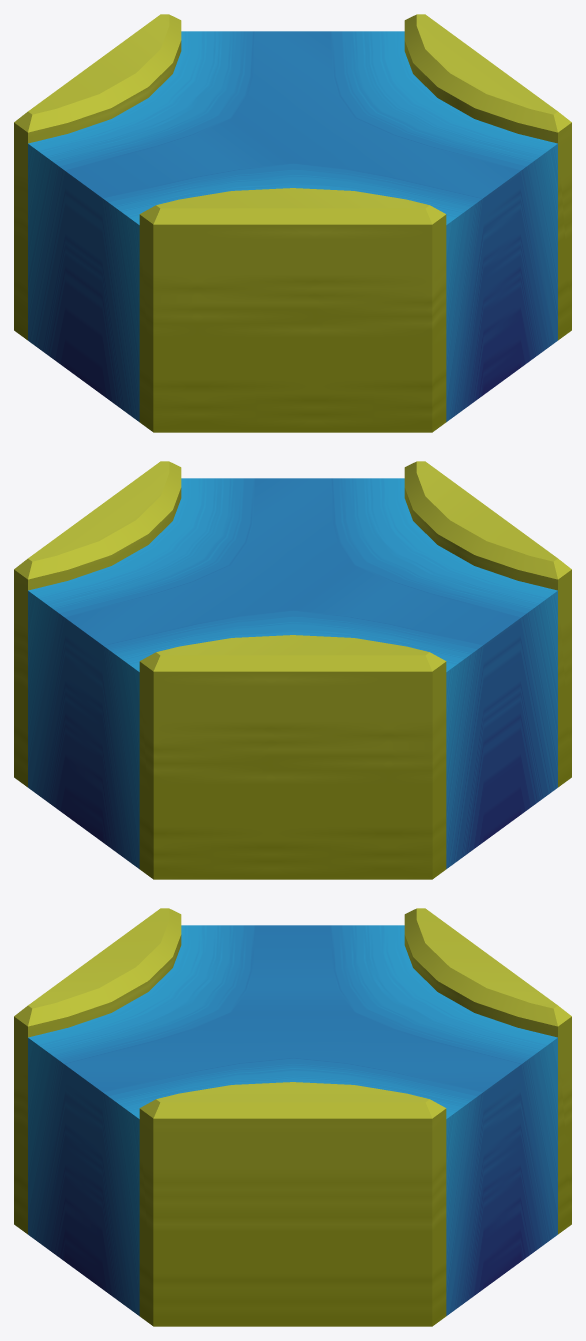
File: hex-river-d.glb
3 views of the same model, one above another, from view 1: azimuth 30°, elevation 25°; view 2: azimuth 150°, elevation 25°; view 3: azimuth 270°, elevation 25° (orthographic).
Visible parts, largest first — view 1: hex_river_D; view 2: hex_river_D; view 3: hex_river_D.
Boxes of the visible parts, <box> form: hex_river_D: <box>14,14,571,432</box>; hex_river_D: <box>14,461,571,879</box>; hex_river_D: <box>14,908,571,1326</box>.
Bounding box in the file's own units: 2 × 1 × 2.31.
1 material, 1 textured.
